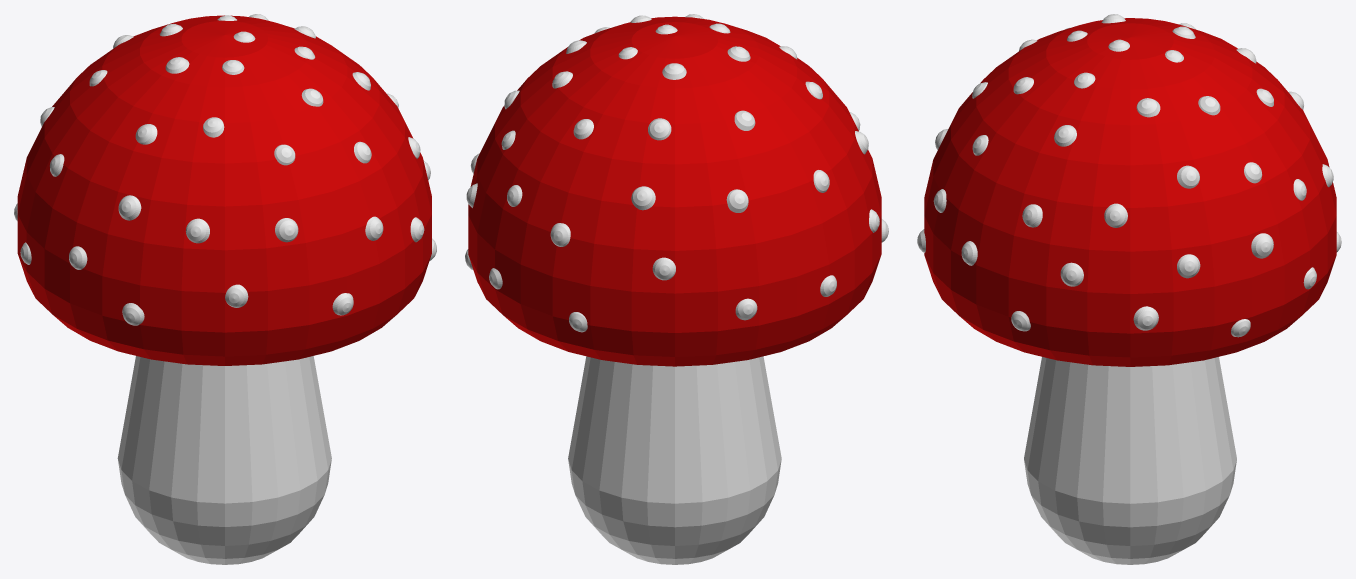
Rendered from mushroom.glb.
3 renders of one model, left to right at view 1: azimuth 30°, elevation 25°; view 2: azimuth 150°, elevation 25°; view 3: azimuth 270°, elevation 25°, orthographic.
Visible parts, largest first — view 1: Mushroom; view 2: Mushroom; view 3: Mushroom.
Part boxes in pixels (<box>): Mushroom: <box>14,14,436,564</box>; Mushroom: <box>465,14,888,564</box>; Mushroom: <box>917,14,1341,564</box>.
Bounding box in the file's own units: 17.78 × 24.11 × 17.8.
